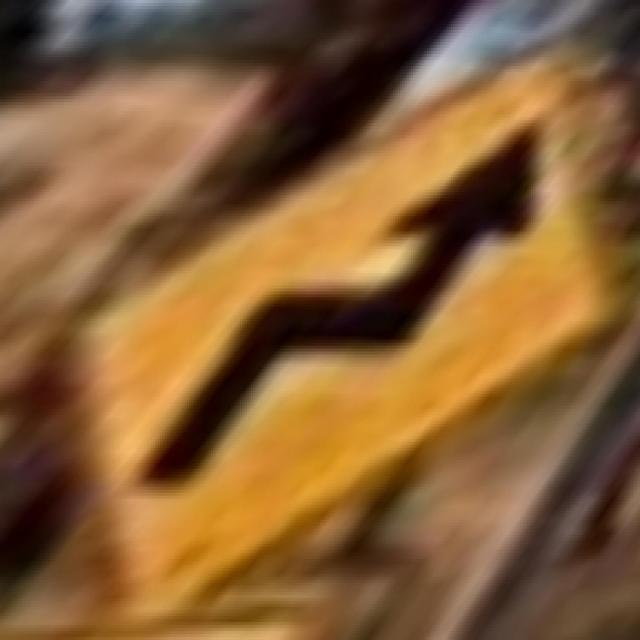Tikungan Ganda Pertama Ke Kanan: (100, 42, 607, 613)
